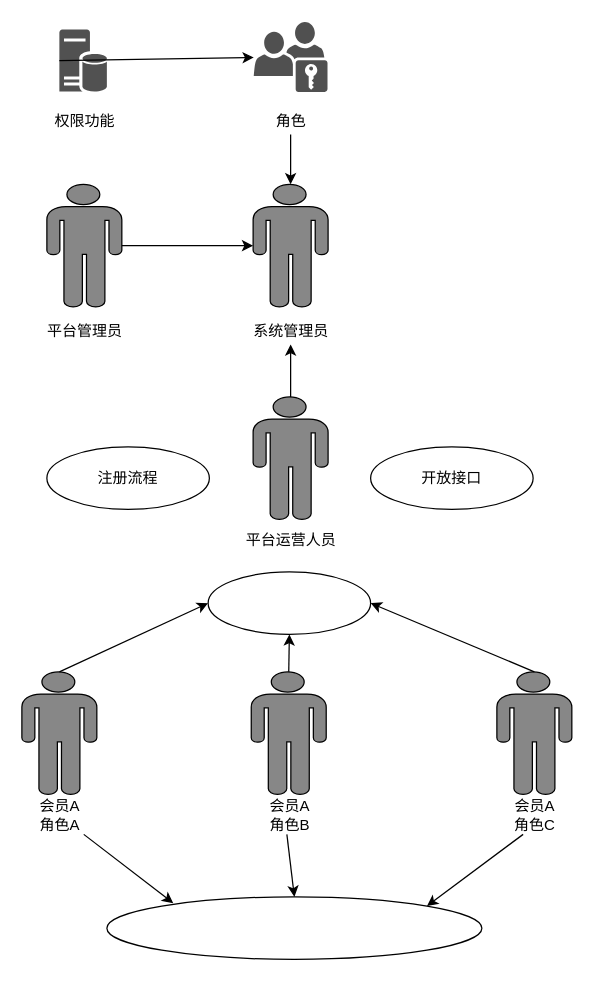
Image size: 594x981. Some labels were removed from this diagram. Here are the shapes that lost their labels. From the top down, the centre of each, then its label:
(289,602): 用户与订单管理
(294,927): 账户系统绑定分账模块ID、触发分账规则
